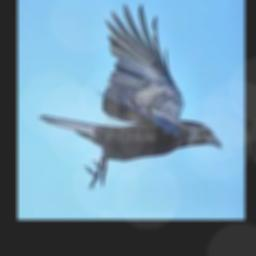Crow: (38, 3, 223, 188)
